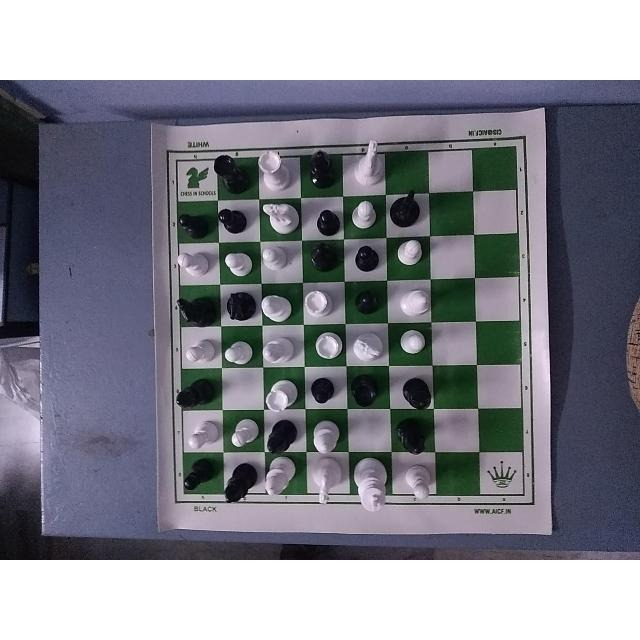black-bishop: (219, 451, 261, 510), (171, 377, 219, 413), (304, 237, 346, 278), (263, 417, 302, 459), (308, 142, 340, 190), (394, 415, 431, 456), (398, 376, 437, 412)
black-knight: (387, 188, 427, 227), (217, 289, 260, 325), (174, 292, 218, 324)
black-pawn: (169, 208, 216, 242), (180, 459, 220, 498), (350, 241, 388, 277), (349, 284, 384, 318), (308, 374, 337, 412), (218, 203, 254, 233), (313, 206, 344, 239)
black-rook: (210, 151, 252, 197), (345, 370, 389, 409)
white-bishop: (258, 332, 308, 371), (264, 456, 299, 499), (260, 289, 300, 326), (309, 420, 349, 453), (400, 287, 436, 319)
white-king: (352, 455, 394, 513)
white-knight: (351, 136, 389, 188), (309, 459, 344, 507), (260, 198, 300, 238), (348, 329, 389, 361)
white-pawn: (177, 333, 221, 369), (405, 461, 436, 505), (185, 418, 221, 454), (394, 324, 431, 359), (175, 246, 212, 279), (229, 412, 259, 452), (395, 233, 428, 268), (348, 197, 379, 233), (218, 245, 254, 276), (220, 334, 253, 366), (259, 242, 292, 273)
white-rook: (254, 145, 298, 193), (264, 372, 304, 416), (298, 288, 346, 320), (311, 328, 347, 366)
